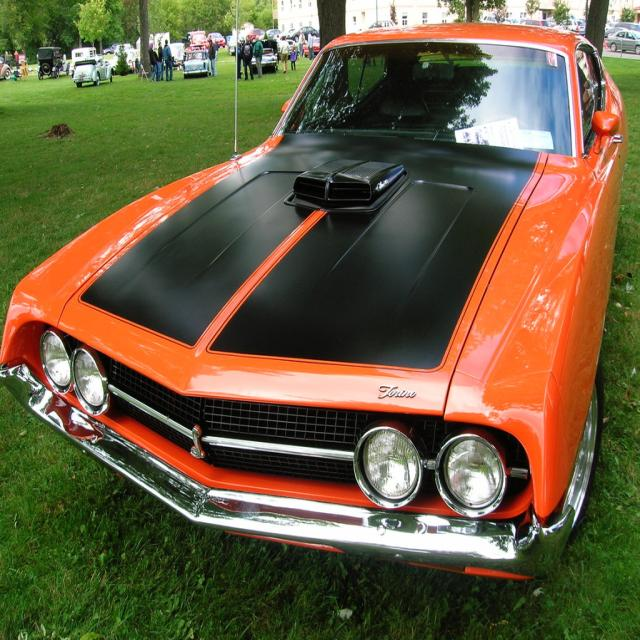car: (0, 21, 626, 575)
